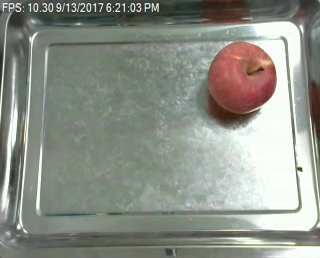Apple: (208, 34, 277, 122)
